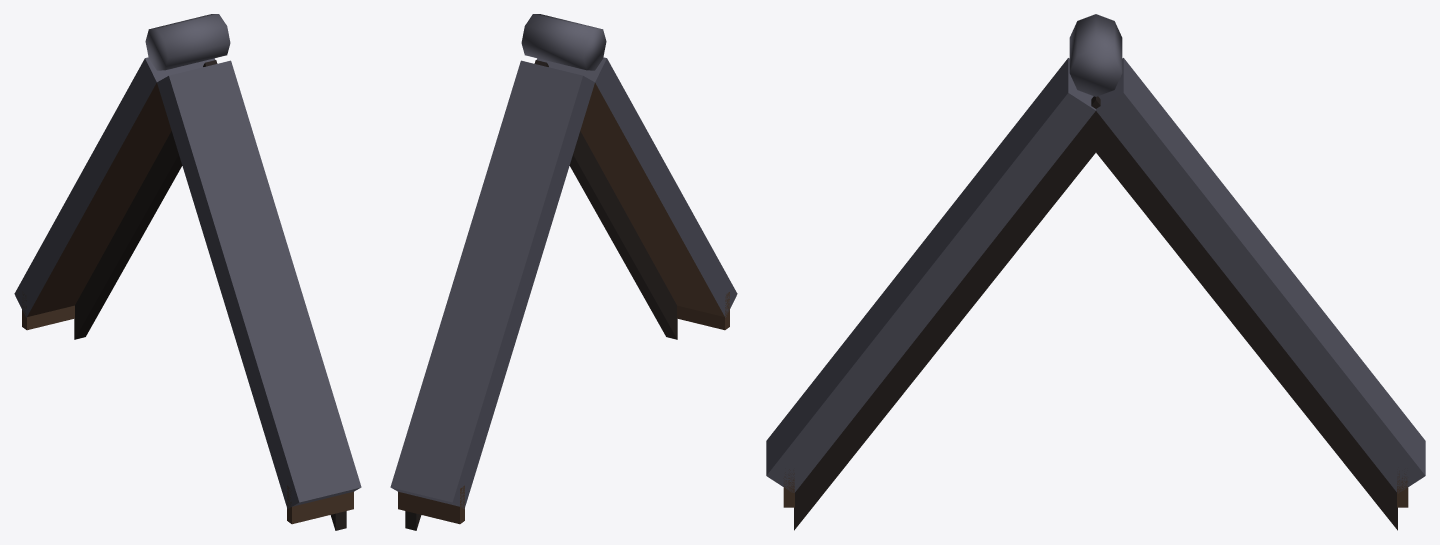
The model's file is kit_church_slate_w1_end.glb.
3 views of the same model, side by side, from view 1: azimuth 30°, elevation 25°; view 2: azimuth 150°, elevation 25°; view 3: azimuth 270°, elevation 25° (orthographic). The views are drawn at different scales.
Parts seen in each view (by area): view 1: kit_church_slate_w1_end; view 2: kit_church_slate_w1_end; view 3: kit_church_slate_w1_end.
Boxes of the visible parts, bbox=[...] form: kit_church_slate_w1_end: bbox=[14, 14, 361, 530]; kit_church_slate_w1_end: bbox=[390, 14, 737, 530]; kit_church_slate_w1_end: bbox=[766, 14, 1425, 530].
Size of the model in its own units: 0.22 by 1.41 by 1.75.
